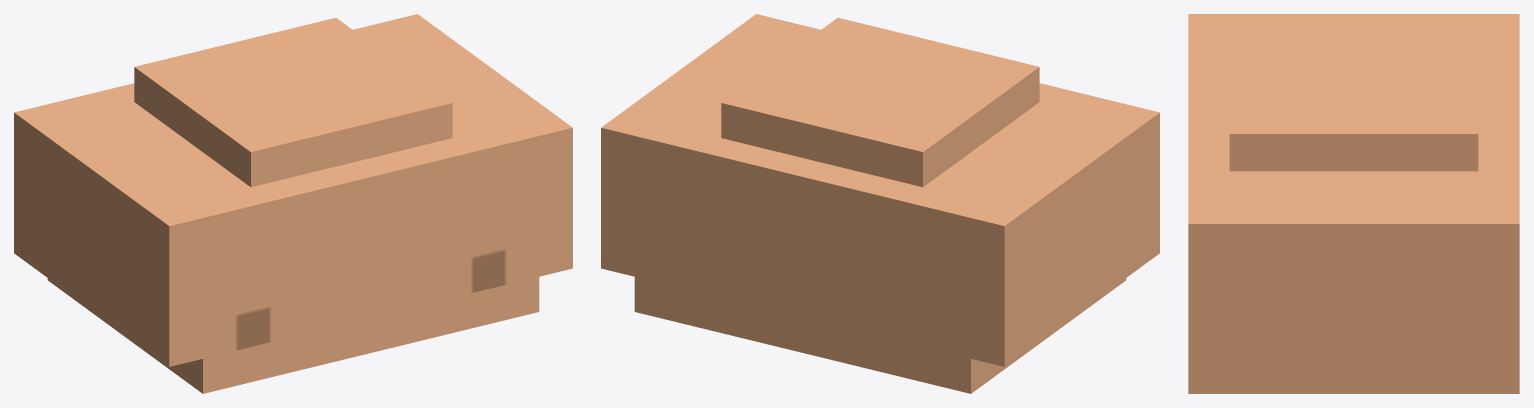
The model's file is Chest021.fbx.
The picture shows the model from 3 angles, left to right: view 1: azimuth 30°, elevation 25°; view 2: azimuth 150°, elevation 25°; view 3: azimuth 270°, elevation 25°; orthographic projection. The views are drawn at different scales.
Parts seen in each view (by area): view 1: Chest021; view 2: Chest021; view 3: Chest021.
Part boxes in pixels (box(x1,y1,x2,y2)): Chest021: box(14, 14, 572, 393); Chest021: box(601, 14, 1159, 393); Chest021: box(1188, 14, 1519, 393).
Size of the model in its own units: 12 by 6 by 8.
